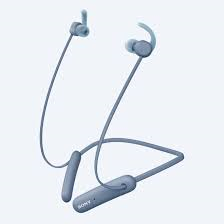earphone: (38, 2, 192, 211)
